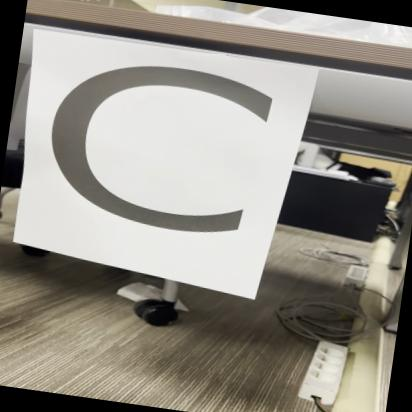seat: (15, 42, 295, 298)
